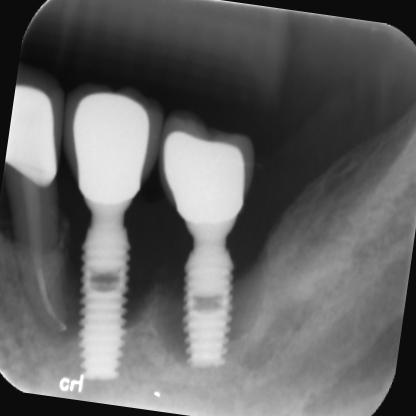Bicon: (61, 196, 140, 388), (169, 209, 246, 371)
